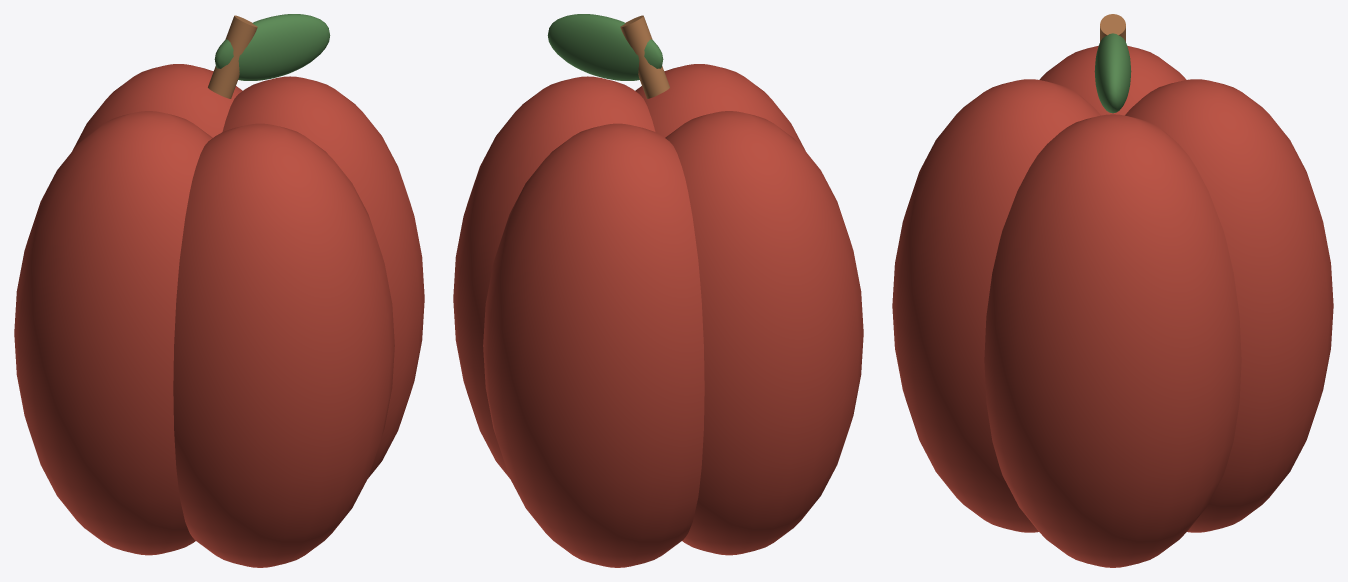
The model's file is wp-poivron.glb.
The picture shows the model from 3 angles, left to right: view 1: azimuth 30°, elevation 25°; view 2: azimuth 150°, elevation 25°; view 3: azimuth 270°, elevation 25°; orthographic projection. The views are drawn at different scales.
Visible parts, largest first — view 1: wp-poivron; view 2: wp-poivron; view 3: wp-poivron.
Boxes of the visible parts, x1,y1,x2,y2 form: wp-poivron: (14,14,424,567); wp-poivron: (453,14,863,567); wp-poivron: (892,14,1333,567).
Size of the model in its own units: 0.1 by 0.13 by 0.1.
